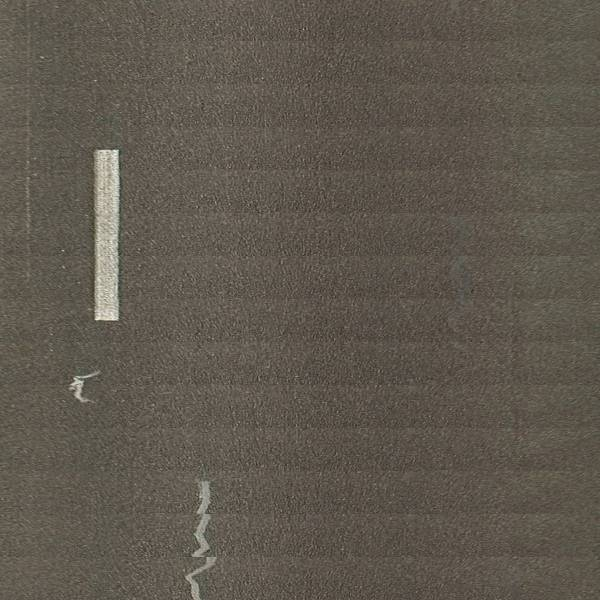road_damage: (180, 478, 219, 600), (65, 367, 105, 410)
